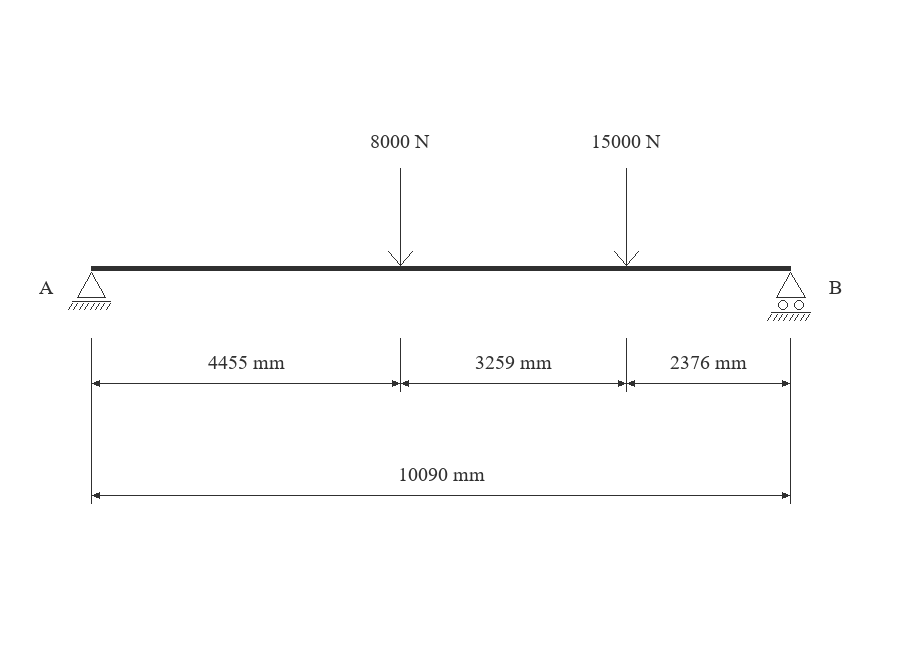pin_support: (68, 272, 111, 310)
point_load: (388, 168, 413, 266), (614, 168, 639, 266)
roller_support: (767, 272, 811, 321)
